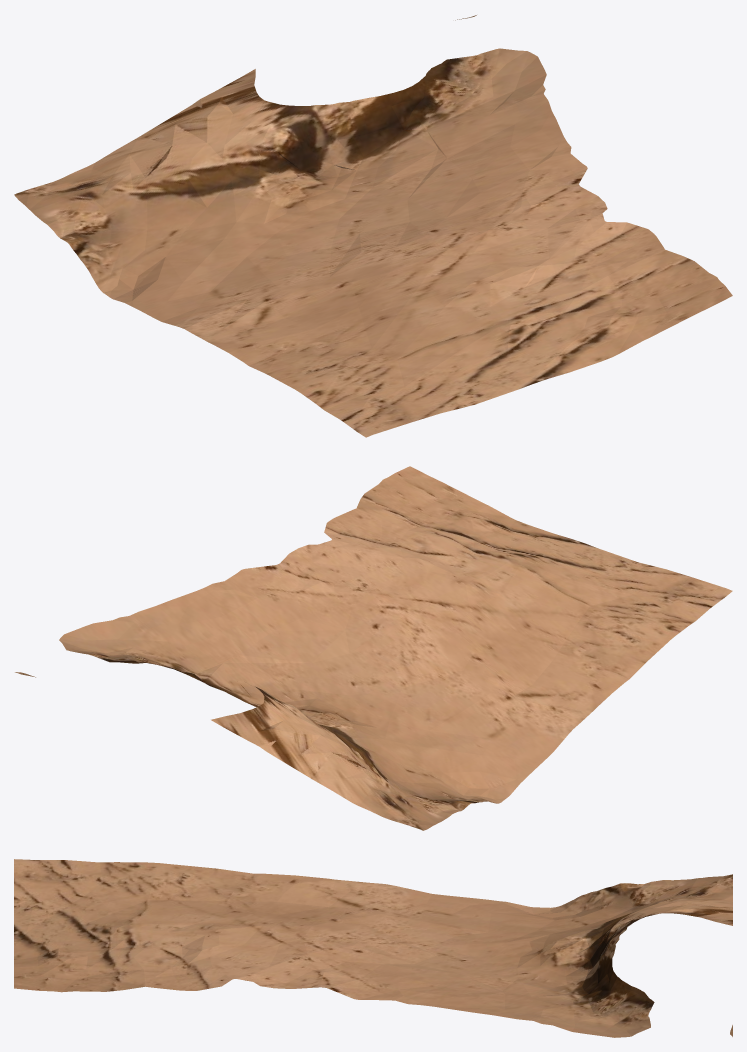
3 renders of one model, top to bottom at view 1: azimuth 30°, elevation 25°; view 2: azimuth 150°, elevation 25°; view 3: azimuth 270°, elevation 25°, orthographic. The views are drawn at different scales.
Size of the model in its own units: 0.798 by 0.1638 by 1.04.
2 materials, 2 textured.
